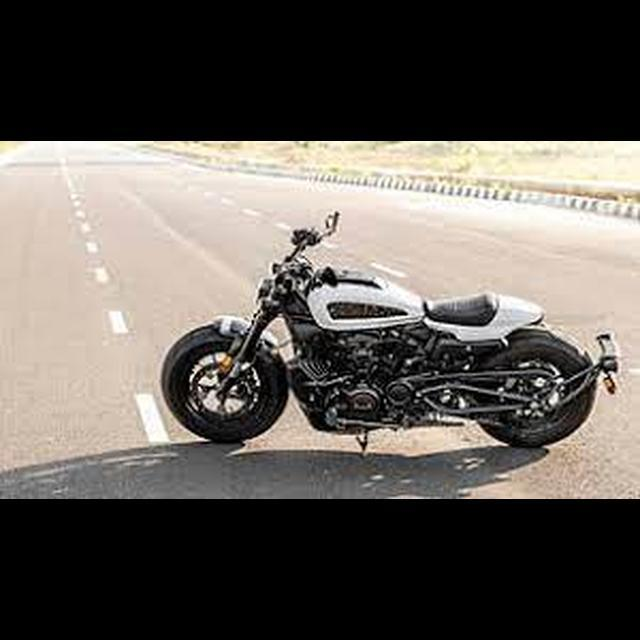motorcycle: (157, 207, 625, 457)
